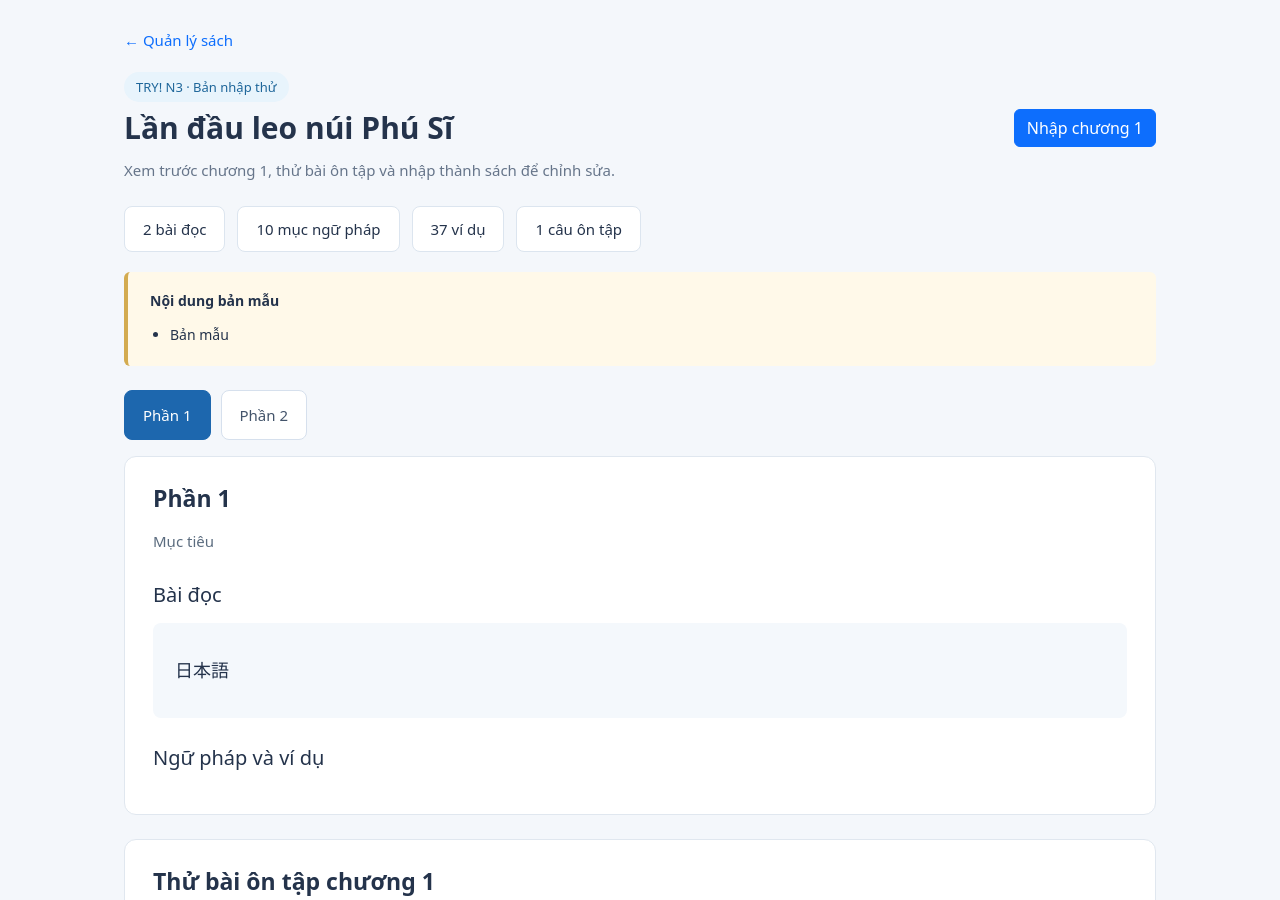
Test: keeps a failed import retryable and does not show a success message
Click the button "Nhập chương 1" at (1085, 128), box [1014,109,1156,147]
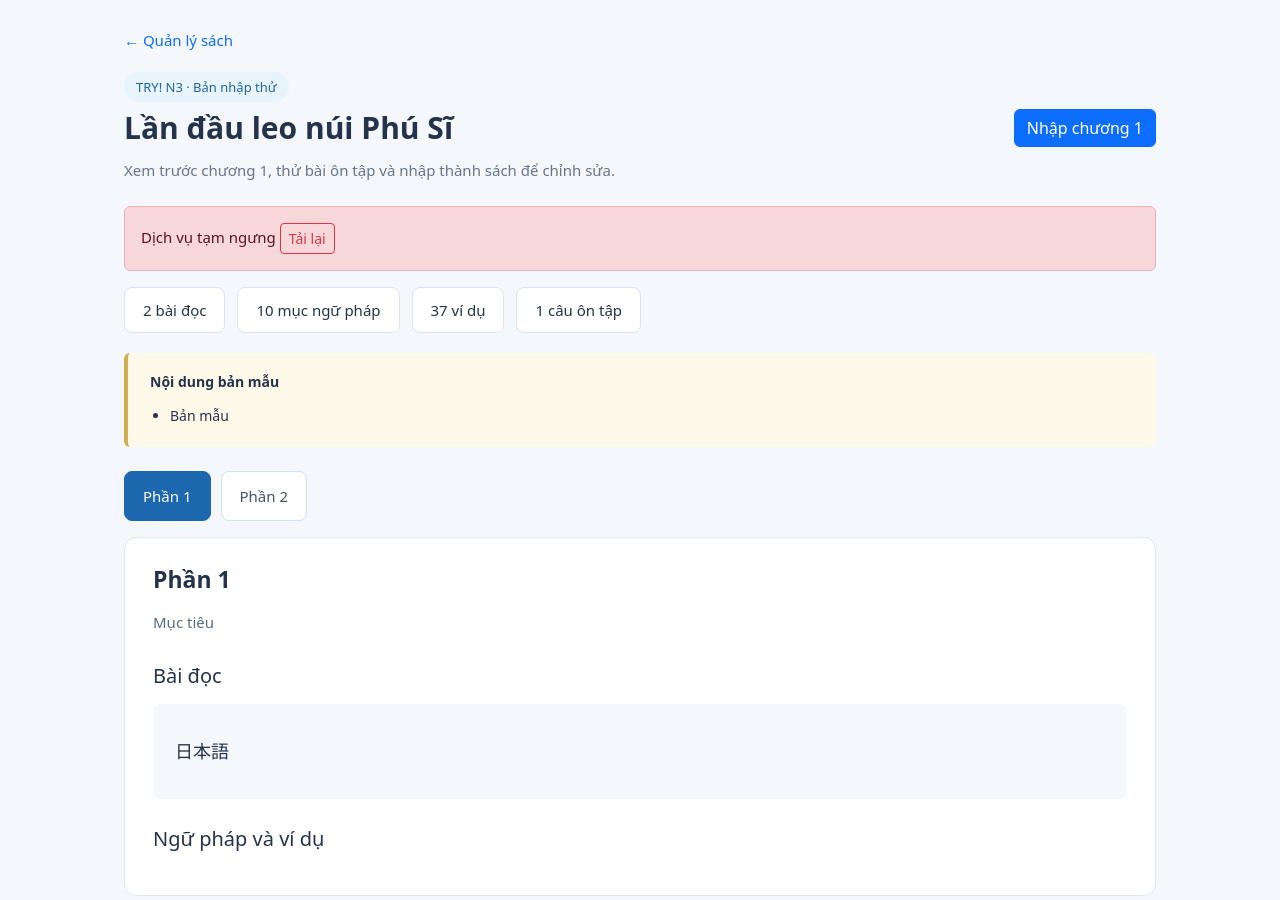
Expected: the text "Dịch vụ tạm ngưng" is shown, [141,226,280,246]
